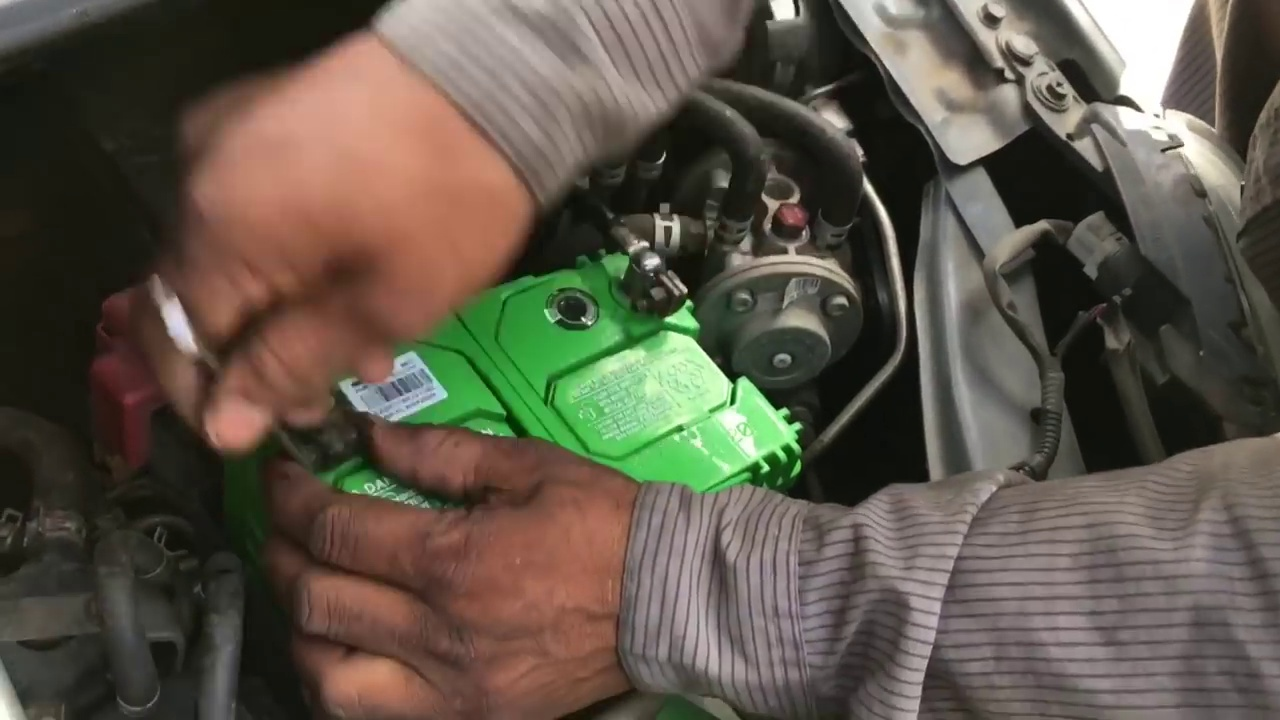battery: (186, 273, 810, 528)
neg_connected: (584, 201, 703, 353)
pos_touched: (82, 274, 338, 473)
